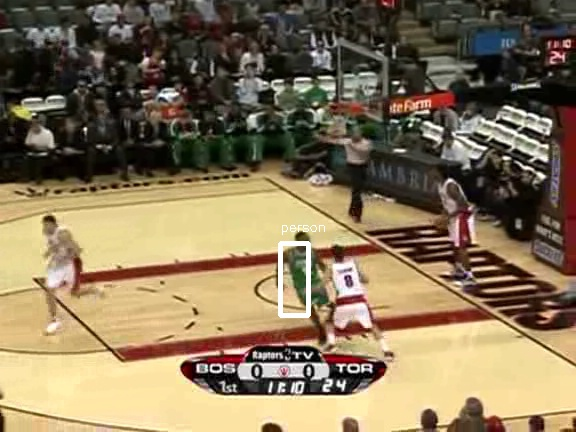person: (290, 239, 324, 320), (289, 239, 323, 320), (291, 239, 325, 320), (290, 238, 324, 319), (290, 240, 324, 321)
target_negative: (29, 67, 443, 371), (418, 175, 572, 371), (105, 162, 294, 236), (232, 244, 400, 291), (188, 50, 480, 58), (312, 404, 386, 424)
